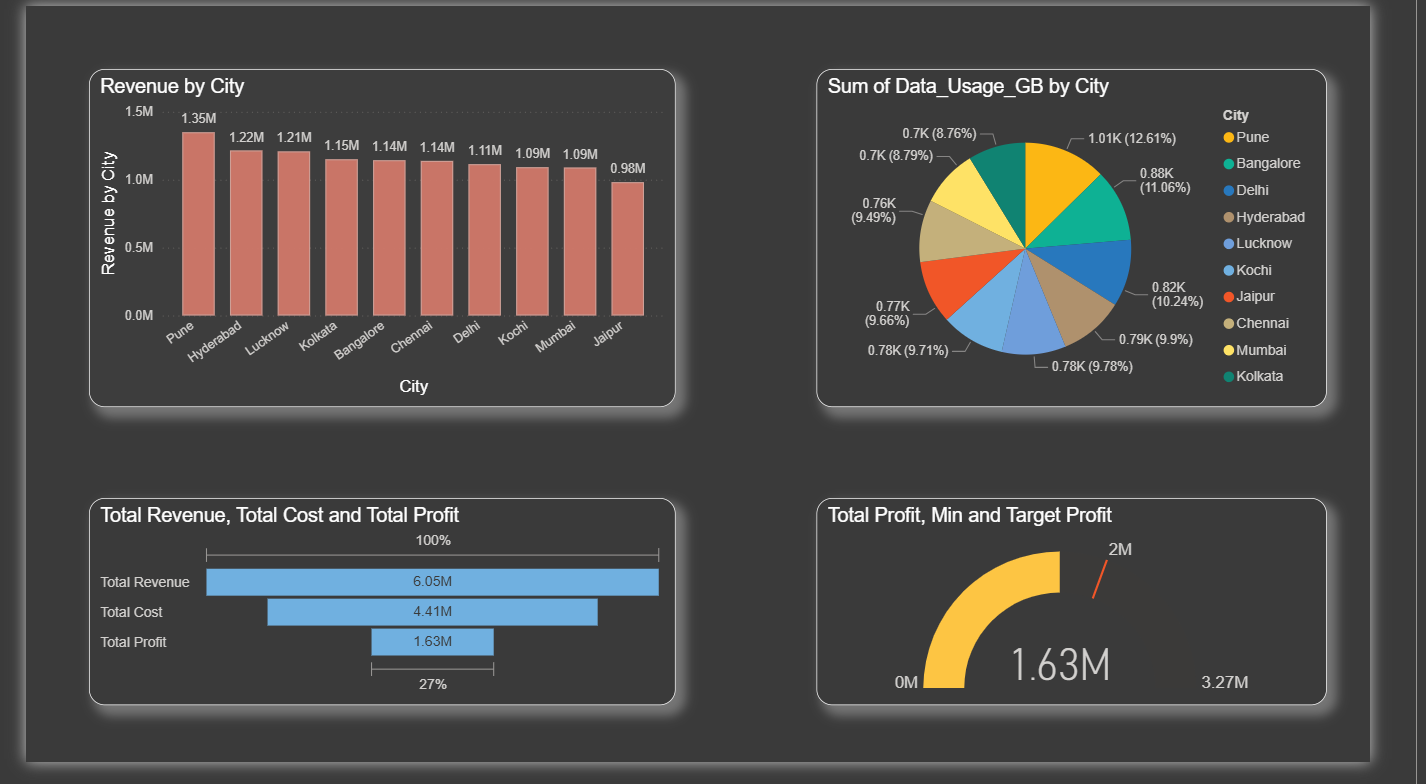

What the dashboard file says about the page in this screenshot:
{"tool":"powerbi","page":{"name":"Page 2","canvas":[1280,720],"ordinal":1},"visuals":[{"type":"clusteredColumnChart","title":"Revenue by City ","fields":{"Y":["customer_profitability_db customer_profitability.Revenue by City"],"Category":["customer_profitability_db customer_profitability.City"]},"box":[60,60,559,322.1],"z":3000},{"type":"pieChart","fields":{"Y":["Sum(customer_profitability_db customer_profitability.Data_Usage_GB)","select"],"Category":["customer_profitability_db customer_profitability.City"]},"box":[753.2,60,486.3,322.1],"z":4000},{"type":"funnel","fields":{"Y":["customer_profitability_db customer_profitability.Total Revenue","customer_profitability_db customer_profitability.Total Cost","customer_profitability_db customer_profitability.Total Profit"]},"box":[60,469,559,197.4],"z":5000},{"type":"gauge","fields":{"TargetValue":["customer_profitability_db customer_profitability.Target Profit"],"MinValue":["customer_profitability_db customer_profitability.Min"],"Y":["customer_profitability_db customer_profitability.Total Profit"]},"box":[753.2,469,486.3,197.4],"z":6000}]}

Visuals, with their boxes in screenshot pixels (x1, y1, x2, y2), scaled from the page's 1280x720 canvas onto the 1426x784 screenshot:
"Revenue by City " clusteredColumnChart: rect(67, 65, 690, 416)
pieChart - Sum(customer_profitability_db customer_profitability.Data_Usage_GB) x select: rect(839, 65, 1381, 416)
funnel - customer_profitability_db customer_profitability.Total Revenue x customer_profitability_db customer_profitability.Total Cost: rect(67, 511, 690, 726)
gauge - customer_profitability_db customer_profitability.Target Profit x customer_profitability_db customer_profitability.Min: rect(839, 511, 1381, 726)
